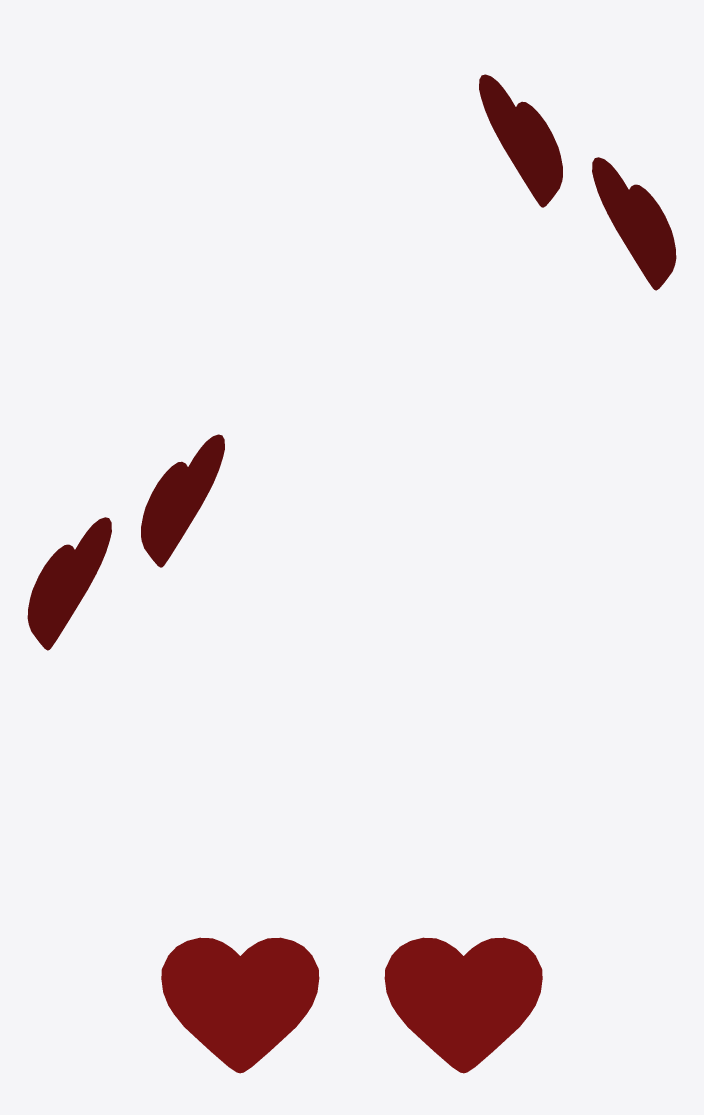
File: HEART GLASSES.fbx
The picture shows the model from 3 angles, top to bottom: view 1: azimuth 30°, elevation 25°; view 2: azimuth 150°, elevation 25°; view 3: azimuth 270°, elevation 25°; orthographic projection.
Parts seen in each view (by area): view 1: HEART_GLASSES; view 2: HEART_GLASSES; view 3: HEART_GLASSES.
Boxes of the visible parts, x1=… form: HEART_GLASSES: x1=479, y1=74, x2=676, y2=290; HEART_GLASSES: x1=27, y1=434, x2=224, y2=650; HEART_GLASSES: x1=161, y1=937, x2=542, y2=1073.
Bounding box in the file's own units: 17.7 × 7.7 × 25.05.
